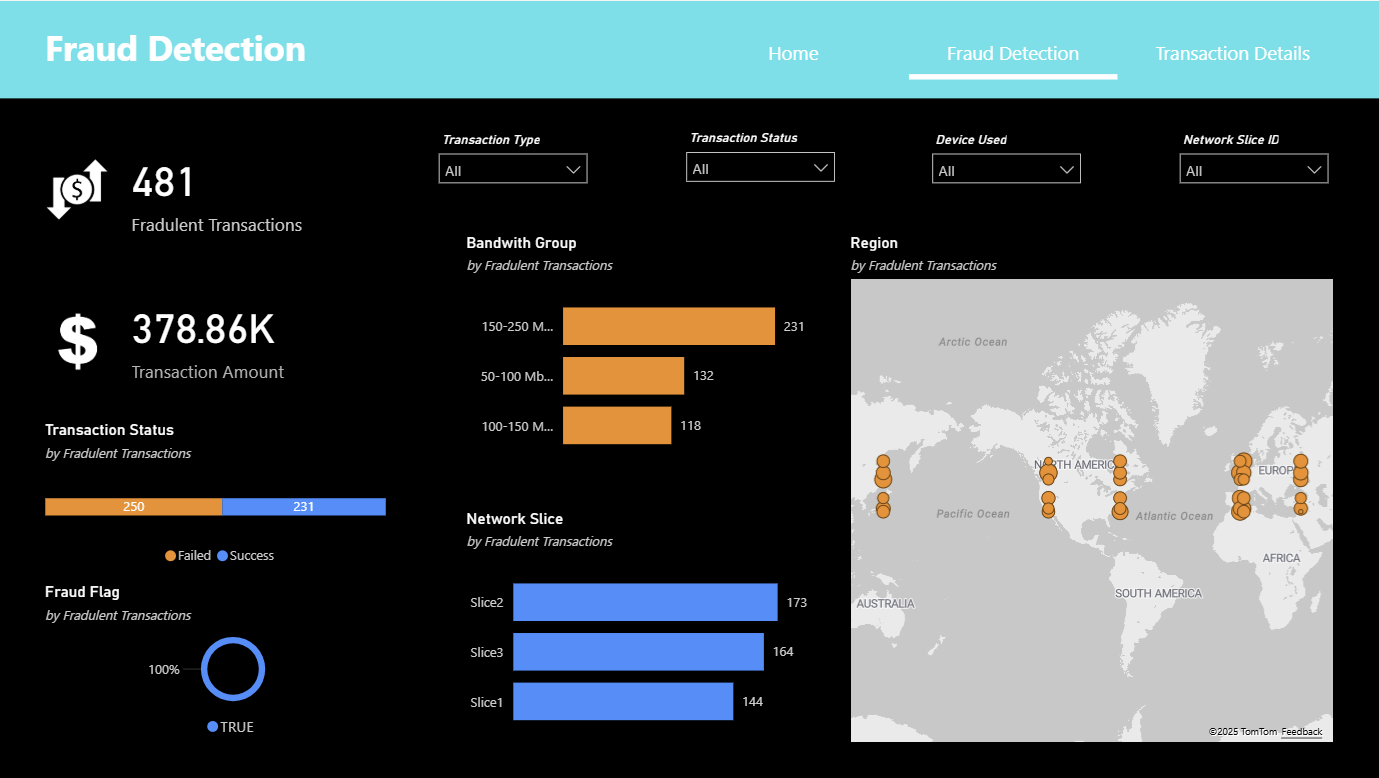

The page's visual inventory and layout, read from the dashboard file:
{"tool":"powerbi","page":{"name":"Fraud Detection","canvas":[1280,720],"ordinal":1},"visuals":[{"type":"barChart","title":"Bandwith Group","fields":{"Y":["bank transaction_data.Total Transactions"],"Category":["bank transaction_data.Bandwith Group"]},"box":[430,214.3,325.7,220],"z":0},{"type":"barChart","title":"Network Slice","fields":{"Y":["bank transaction_data.Total Transactions"],"Category":["bank transaction_data.Network Slice ID"]},"box":[430,470,325.7,220],"z":1000},{"type":"slicer","fields":{"Values":["bank transaction_data.Transaction Type"]},"box":[400,114.8,157,77.1],"z":2000},{"type":"slicer","fields":{"Values":["bank transaction_data.Transaction Status"]},"box":[628,114.3,157,77.1],"z":3000},{"type":"slicer","fields":{"Values":["bank transaction_data.Device Used"]},"box":[856.1,114.6,157,77.1],"z":4000},{"type":"slicer","fields":{"Values":["bank transaction_data.Network Slice ID"]},"box":[1084.2,114.5,157,77.1],"z":5000},{"type":"shape","box":[0,0,1280,90],"z":6000},{"type":"textbox","box":[39.9,15.2,471.1,66.1],"z":7000},{"type":"pageNavigator","box":[640.6,23.4,600.6,49.6],"z":8000},{"type":"azureMap","title":"Region","fields":{"Size":["bank transaction_data.Total Transactions"],"Y":["bank transaction_data.Latitude Value"],"X":["bank transaction_data.Longitude Value"]},"box":[785.2,214.9,456,475.3],"z":9000},{"type":"cardVisual","fields":{"Data":["bank transaction_data.Total Transactions"]},"box":[40,117.1,324.3,128.6],"z":10000},{"type":"cardVisual","fields":{"Data":["bank transaction_data.Total Transaction Amount"]},"box":[40,252.9,324.3,128.6],"z":11000},{"type":"barChart","title":"Transaction Status","fields":{"Y":["bank transaction_data.Total Transactions"],"Series":["bank transaction_data.Transaction Status"]},"box":[40,388.6,337.1,142.9],"z":12000},{"type":"donutChart","title":"Fraud Flag","fields":{"Y":["bank transaction_data.Total Transactions"],"Category":["bank transaction_data.Fraud Flag"]},"box":[40,538.6,357.1,151.4],"z":13000}]}

Visuals, with their boxes in screenshot pixels (x1, y1, x2, y2), scaled from the page's 1280x720 canvas onto the 1379x778 screenshot:
"Bandwith Group" barChart: 463, 232, 814, 469
"Network Slice" barChart: 463, 508, 814, 746
slicer - bank transaction_data.Transaction Type: 431, 124, 600, 207
slicer - bank transaction_data.Transaction Status: 677, 124, 846, 207
slicer - bank transaction_data.Device Used: 922, 124, 1091, 207
slicer - bank transaction_data.Network Slice ID: 1168, 124, 1337, 207
shape: 0, 0, 1378, 97
textbox: 43, 16, 551, 88
pageNavigator: 690, 25, 1337, 79
"Region" azureMap: 846, 232, 1337, 746
cardVisual - bank transaction_data.Total Transactions: 43, 127, 392, 265
cardVisual - bank transaction_data.Total Transaction Amount: 43, 273, 392, 412
"Transaction Status" barChart: 43, 420, 406, 574
"Fraud Flag" donutChart: 43, 582, 428, 746
